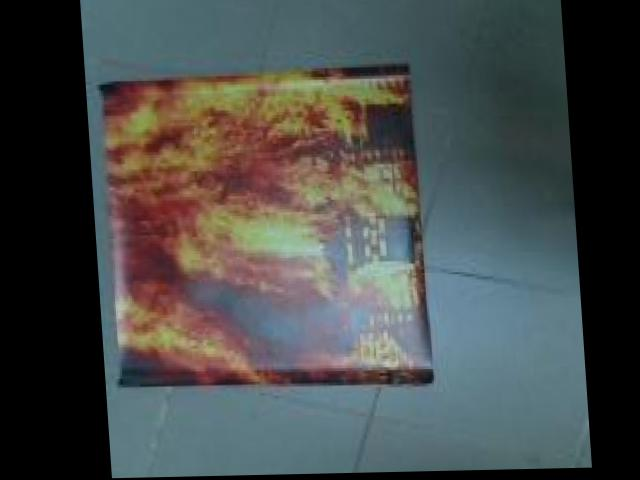fire-poster: (92, 62, 431, 395)
